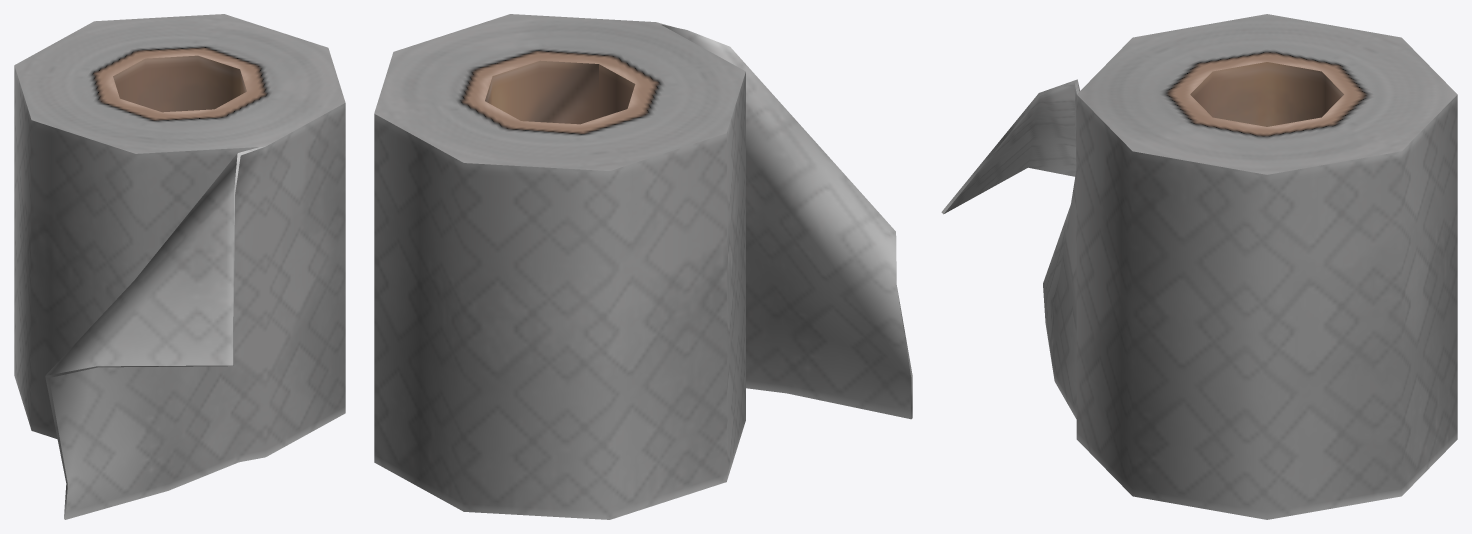
The model's file is ITEM_toiletPaper_B.fbx.
3 renders of one model, left to right at view 1: azimuth 30°, elevation 25°; view 2: azimuth 150°, elevation 25°; view 3: azimuth 270°, elevation 25°, orthographic. The views are drawn at different scales.
Visible parts, largest first — view 1: ITEM_toiletPaper_B; view 2: ITEM_toiletPaper_B; view 3: ITEM_toiletPaper_B.
Part boxes in pixels (box(x1,y1,x2,y2)): ITEM_toiletPaper_B: box(14, 14, 345, 519); ITEM_toiletPaper_B: box(374, 14, 912, 519); ITEM_toiletPaper_B: box(941, 14, 1457, 519).
Bounding box in the file's own units: 14.79 × 12 × 16.27.
